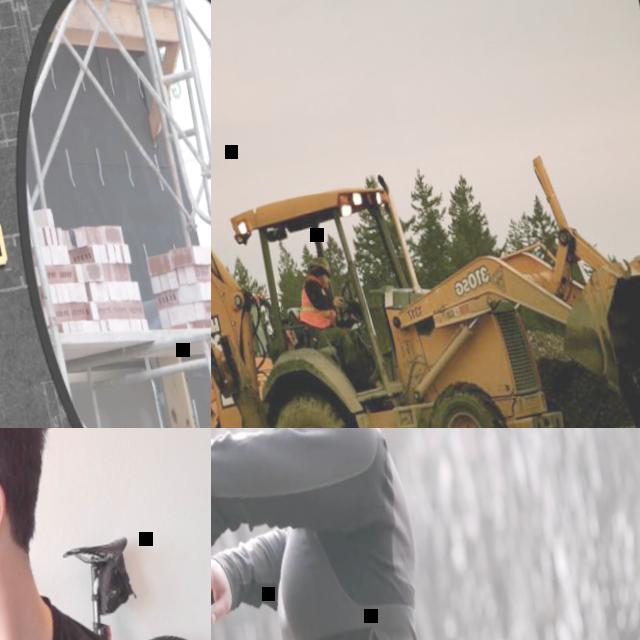Hardhat: (308, 252, 332, 274)
NO-Mask: (318, 274, 331, 290)
NO-Safety Vest: (240, 428, 446, 640)
Person: (211, 428, 449, 640), (0, 428, 211, 640), (287, 246, 375, 400)
Safety Vest: (292, 270, 339, 330)
vehicle: (211, 61, 640, 428), (211, 271, 299, 428)
